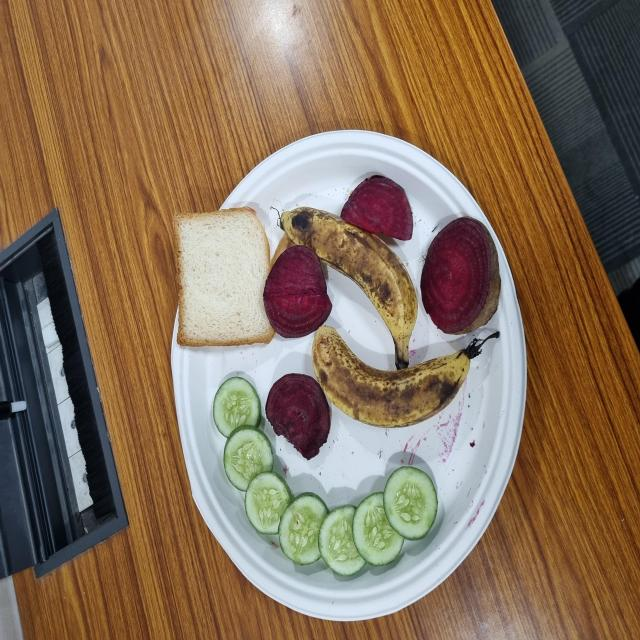banana: (212, 372, 325, 557), (157, 418, 236, 630)
cucumber: (75, 513, 133, 589), (54, 371, 112, 443), (55, 473, 114, 543), (47, 429, 104, 496), (74, 327, 127, 396), (149, 281, 200, 350), (111, 297, 161, 367)
